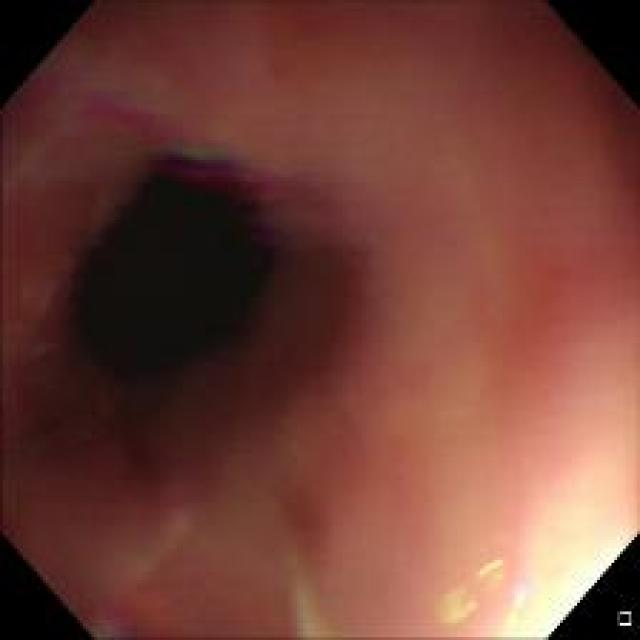color misalignment: (31, 96, 325, 209), (264, 500, 332, 638), (115, 505, 190, 591), (430, 582, 482, 626), (470, 555, 512, 588), (508, 576, 535, 610)
contrast: (44, 149, 294, 402)
saturation: (540, 536, 622, 625)
